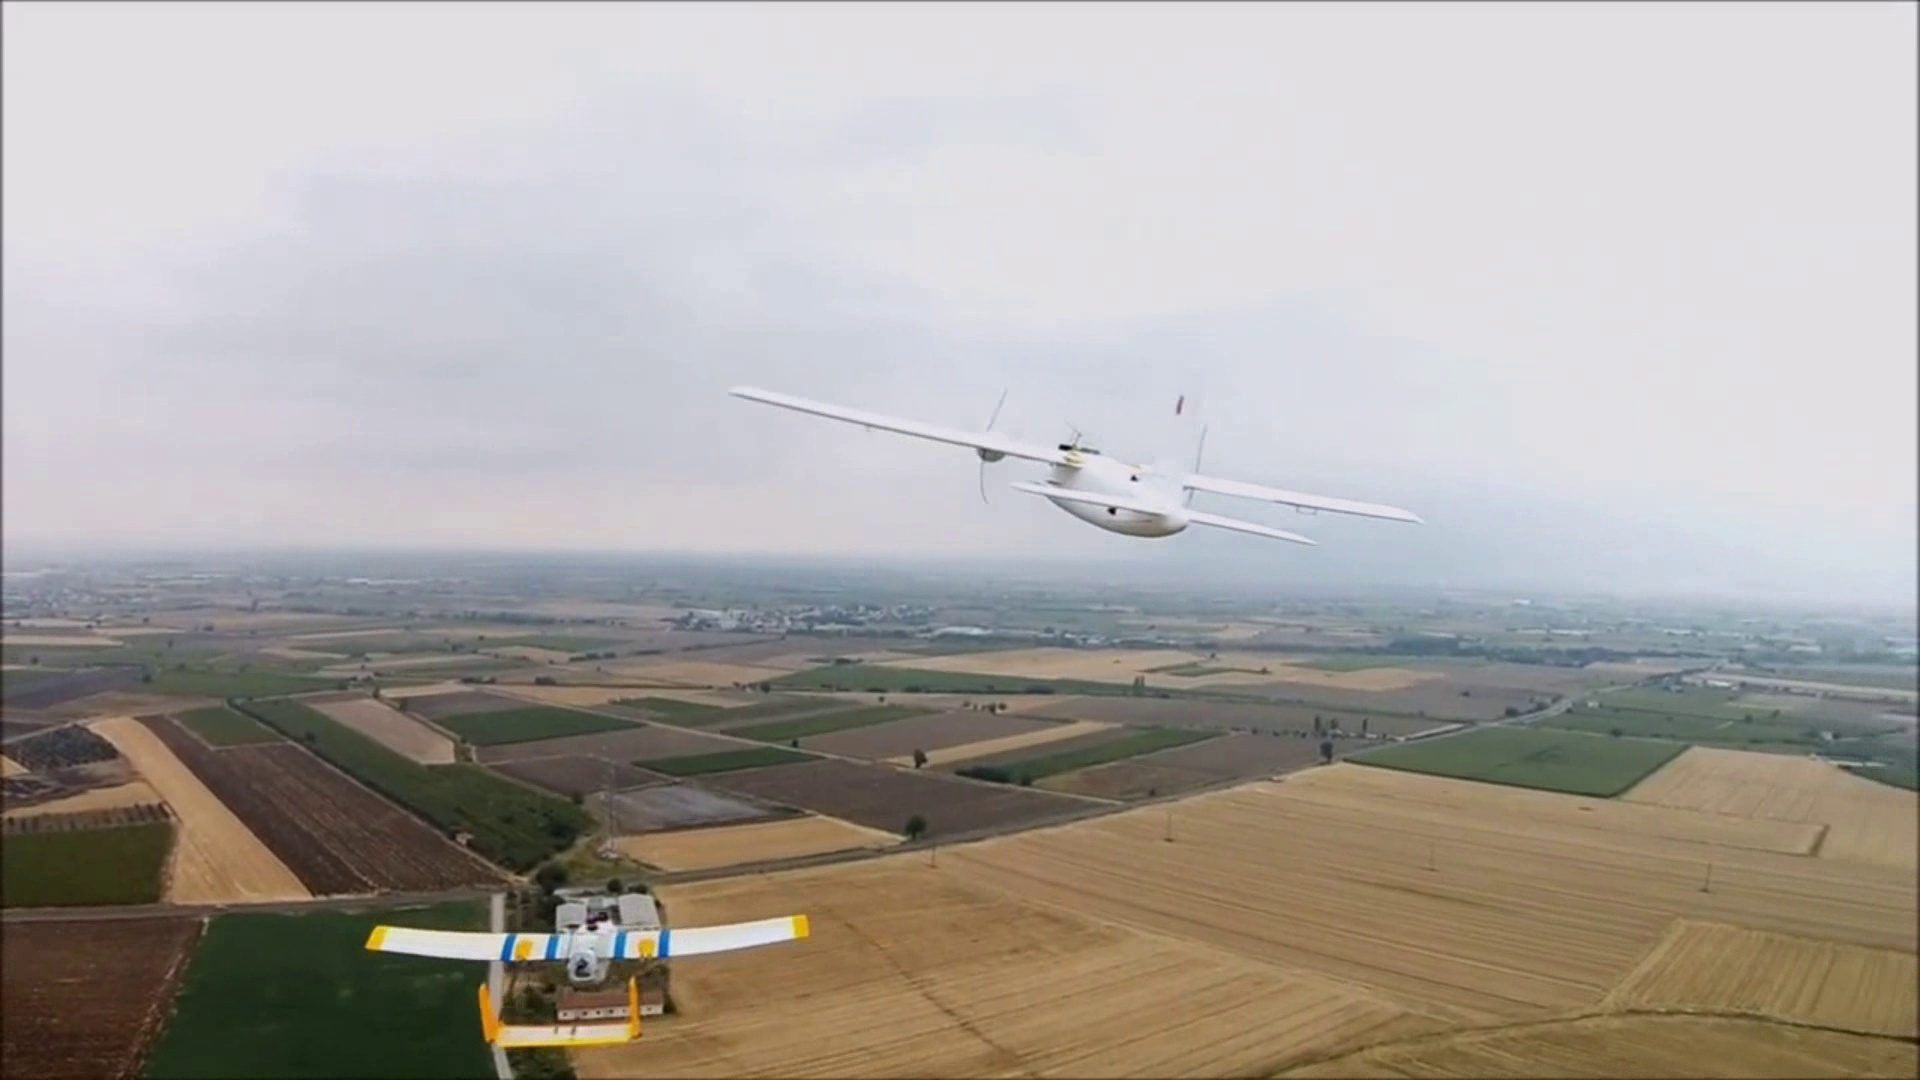airplane: (731, 382, 1424, 549)
